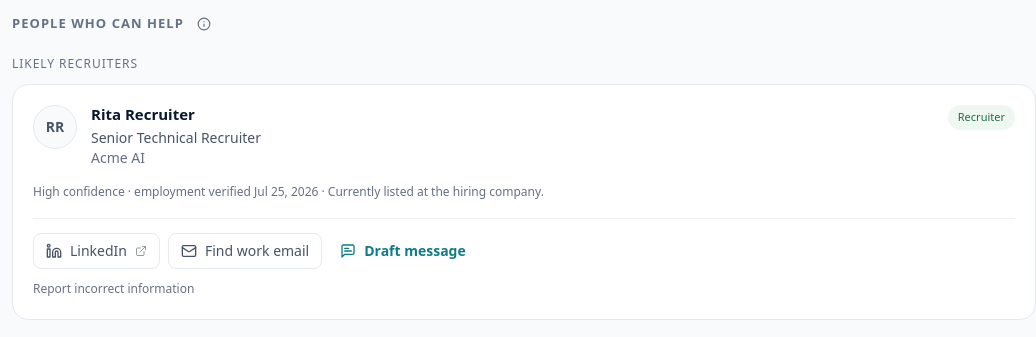
Test: Networking tab — simplified surface › keeps the metadata reachable behind About these results
Expected: the heading "Rita Recruiter" is shown, x1=91 y1=104 x2=195 y2=124
Click the button named "About these results" at (204, 24), box x1=192 y1=12 x2=216 y2=36
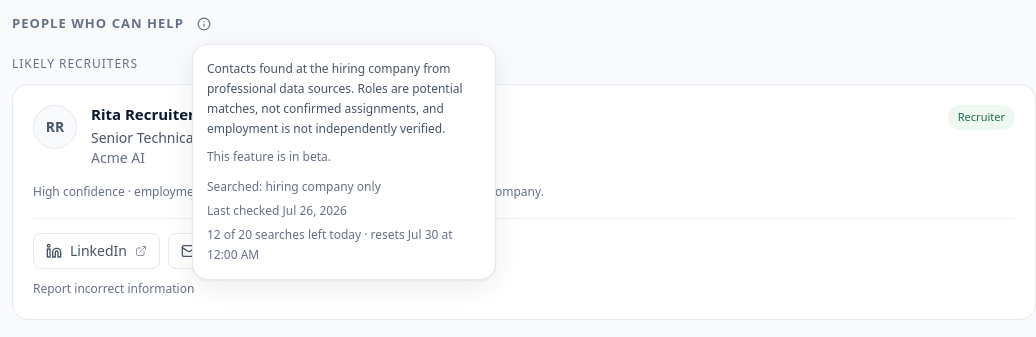
Expected: the text "Roles are potential matches, not confirmed assignments" is shown, x1=207 y1=60 x2=463 y2=137
Expected: the list item "Searched: hiring company only" is shown, x1=207 y1=178 x2=381 y2=195
Expected: the list item "12 of 20 searches left today · resets Jul 30 at 12:00 AM" is shown, x1=207 y1=225 x2=481 y2=265
